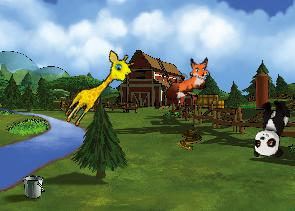fox: (157, 53, 217, 103)
giraffe: (60, 45, 138, 135)
panda: (251, 96, 291, 160)
